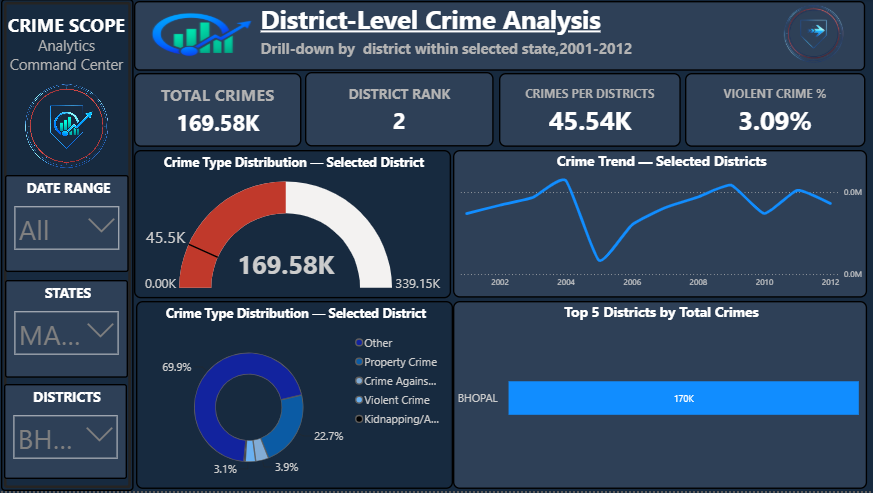

The page's visual inventory and layout, read from the dashboard file:
{"tool":"powerbi","page":{"name":"District Analysis","canvas":[1280,720],"ordinal":2},"visuals":[{"type":"textbox","box":[197.6,2.9,1069.8,102.4],"z":0},{"type":"cardVisual","fields":{"Data":["ALL Measures.District Total Crimes"]},"box":[197,108,245,108],"z":1000},{"type":"shape","box":[2.9,0,194.4,720],"z":2000},{"type":"textbox","box":[2.9,7.2,191.5,110.9],"z":3000},{"type":"cardVisual","fields":{"Data":["ALL Measures.District Rank (within State)"]},"box":[447.8,106.6,276.5,109.4],"z":4000},{"type":"cardVisual","fields":{"Data":["ALL Measures.State Average per District"]},"box":[731.5,107.7,266.2,108.5],"z":5000},{"type":"cardVisual","fields":{"Data":["ALL Measures.Violent Crime %"]},"box":[1003.8,107.7,263.8,108.5],"z":6000},{"type":"slicer","title":"DATE RANGE","fields":{"Values":["Dim_Year.Year"]},"box":[8.8,257.6,181.5,142],"z":7000},{"type":"slicer","title":"STATES","fields":{"Values":["Fact_Crimes.STATE_UT"]},"box":[8.8,411.2,180,143.4],"z":8000},{"type":"lineChart","title":"Crime Trend — Selected Districts","fields":{"Category":["Dim_Year.Year"],"Y":["ALL Measures.Total CR"]},"box":[663.8,220.3,606.2,216],"z":9000},{"type":"funnel","title":"Top 5 Districts by Total Crimes","fields":{"Category":["Fact_Crimes.DISTRICT"],"Y":["ALL Measures.Total CR"]},"box":[664.4,442,605.9,275.1],"z":10000},{"type":"image","box":[23.4,118.5,150.7,139],"z":11000},{"type":"image","box":[197.6,0,194.6,105.4],"z":12000},{"type":"image","box":[1113.7,0,156.6,105.4],"z":13000},{"type":"slicer","title":"DISTRICTS","fields":{"Values":["Fact_Crimes.DISTRICT"]},"box":[7.3,563.4,180,139],"z":14000},{"type":"donutChart","title":"Crime Type Distribution — Selected District","fields":{"Category":["Fact_Crimes.CrimeGroups"],"Y":["ALL Measures.Total CR"]},"box":[200.5,442,463.9,275.1],"z":15000},{"type":"gauge","title":"Crime Type Distribution — Selected District","fields":{"TargetValue":["ALL Measures.State Average per District"],"Y":["ALL Measures.District Total Crimes"]},"box":[197.6,221,463.9,216.6],"z":16000}]}

Visuals, with their boxes in screenshot pixels (x1, y1, x2, y2), scaled from the page's 1280x720 canvas onto the 873x493 screenshot:
textbox: {"x1": 135, "y1": 2, "x2": 864, "y2": 72}
cardVisual - ALL Measures.District Total Crimes: {"x1": 134, "y1": 74, "x2": 301, "y2": 148}
shape: {"x1": 2, "y1": 0, "x2": 135, "y2": 492}
textbox: {"x1": 2, "y1": 5, "x2": 133, "y2": 81}
cardVisual - ALL Measures.District Rank (within State): {"x1": 305, "y1": 73, "x2": 494, "y2": 148}
cardVisual - ALL Measures.State Average per District: {"x1": 499, "y1": 74, "x2": 680, "y2": 148}
cardVisual - ALL Measures.Violent Crime %: {"x1": 685, "y1": 74, "x2": 865, "y2": 148}
"DATE RANGE" slicer: {"x1": 6, "y1": 176, "x2": 130, "y2": 274}
"STATES" slicer: {"x1": 6, "y1": 282, "x2": 129, "y2": 380}
"Crime Trend — Selected Districts" lineChart: {"x1": 453, "y1": 151, "x2": 866, "y2": 299}
"Top 5 Districts by Total Crimes" funnel: {"x1": 453, "y1": 303, "x2": 866, "y2": 491}
image: {"x1": 16, "y1": 81, "x2": 119, "y2": 176}
image: {"x1": 135, "y1": 0, "x2": 267, "y2": 72}
image: {"x1": 760, "y1": 0, "x2": 866, "y2": 72}
"DISTRICTS" slicer: {"x1": 5, "y1": 386, "x2": 128, "y2": 481}
"Crime Type Distribution — Selected District" donutChart: {"x1": 137, "y1": 303, "x2": 453, "y2": 491}
"Crime Type Distribution — Selected District" gauge: {"x1": 135, "y1": 151, "x2": 451, "y2": 300}
